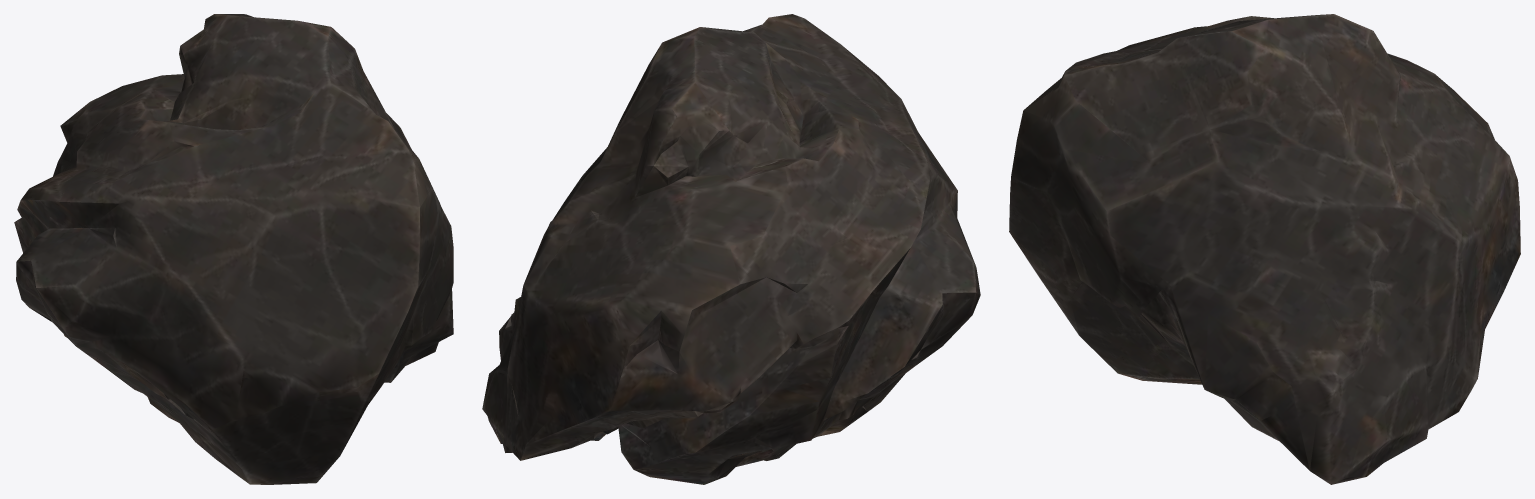
File: asteroid-3.glb
The picture shows the model from 3 angles, left to right: view 1: azimuth 30°, elevation 25°; view 2: azimuth 150°, elevation 25°; view 3: azimuth 270°, elevation 25°; orthographic projection. The views are drawn at different scales.
Visible parts, largest first — view 1: asteroid-3; view 2: asteroid-3; view 3: asteroid-3.
Boxes of the visible parts, x1,y1,x2,y2 form: asteroid-3: [14, 14, 453, 484]; asteroid-3: [482, 14, 980, 484]; asteroid-3: [1009, 14, 1520, 484].
Size of the model in its own units: 1.94 by 1.68 by 2.
Materials: 1 (1 with a texture image).
